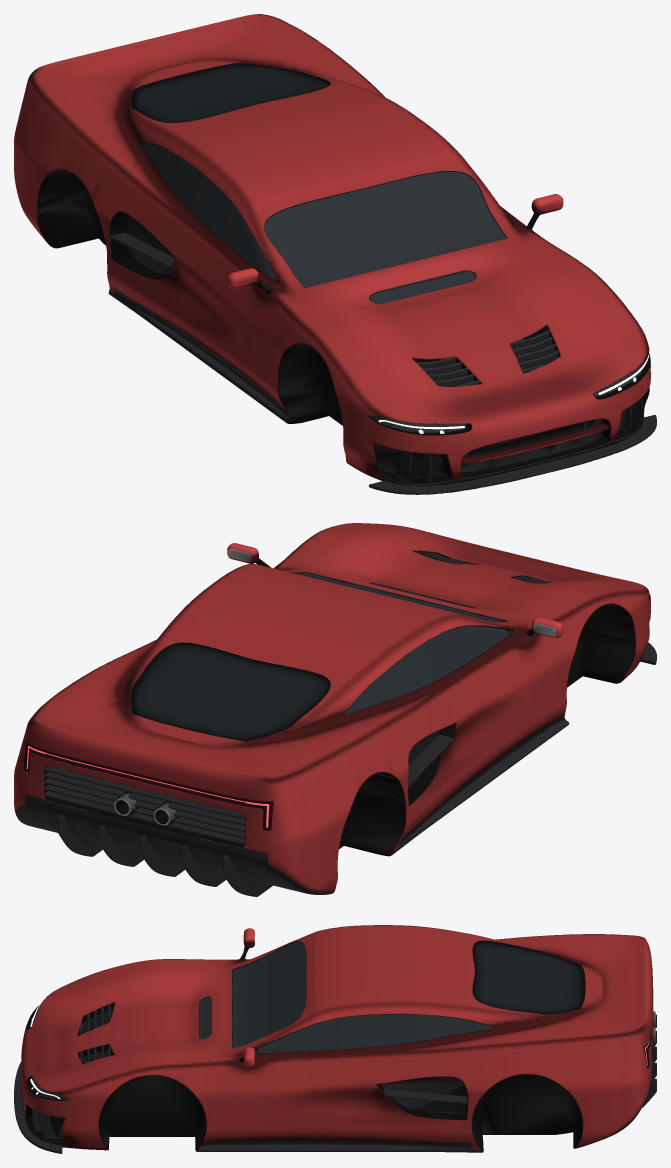
Rendered from volt.glb.
The picture shows the model from 3 angles, top to bottom: view 1: azimuth 30°, elevation 25°; view 2: azimuth 150°, elevation 25°; view 3: azimuth 270°, elevation 25°; orthographic projection. The views are drawn at different scales.
Parts seen in each view (by area): view 1: paint, window, trim, carbon, glass, grille, head; view 2: paint, carbon, glass, trim, window, tail, chrome; view 3: paint, trim, window, glass, carbon, grille.
Boxes of the visible parts, left/top/right/bottom form: paint: left=14, top=14, right=650, bottom=479; window: left=141, top=142, right=506, bottom=303; trim: left=37, top=141, right=650, bottom=483; carbon: left=50, top=232, right=656, bottom=494; glass: left=130, top=62, right=330, bottom=122; grille: left=127, top=215, right=635, bottom=477; head: left=368, top=359, right=645, bottom=432; paint: left=14, top=523, right=650, bottom=893; carbon: left=15, top=551, right=656, bottom=896; glass: left=130, top=642, right=330, bottom=741; trim: left=23, top=551, right=650, bottom=856; window: left=296, top=572, right=511, bottom=715; tail: left=26, top=743, right=273, bottom=828; chrome: left=114, top=549, right=555, bottom=825; paint: left=21, top=925, right=653, bottom=1150; trim: left=23, top=941, right=652, bottom=1151; window: left=199, top=942, right=494, bottom=1052; glass: left=472, top=940, right=585, bottom=1014; carbon: left=14, top=1004, right=656, bottom=1153; grille: left=50, top=1009, right=466, bottom=1138.
Size of what is drawn, in the model's own units: 2.19 by 1.06 by 4.56.
